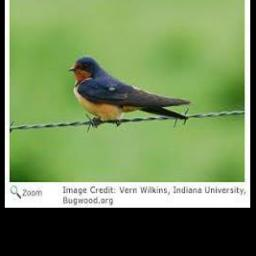Swallow: (68, 56, 191, 122)
